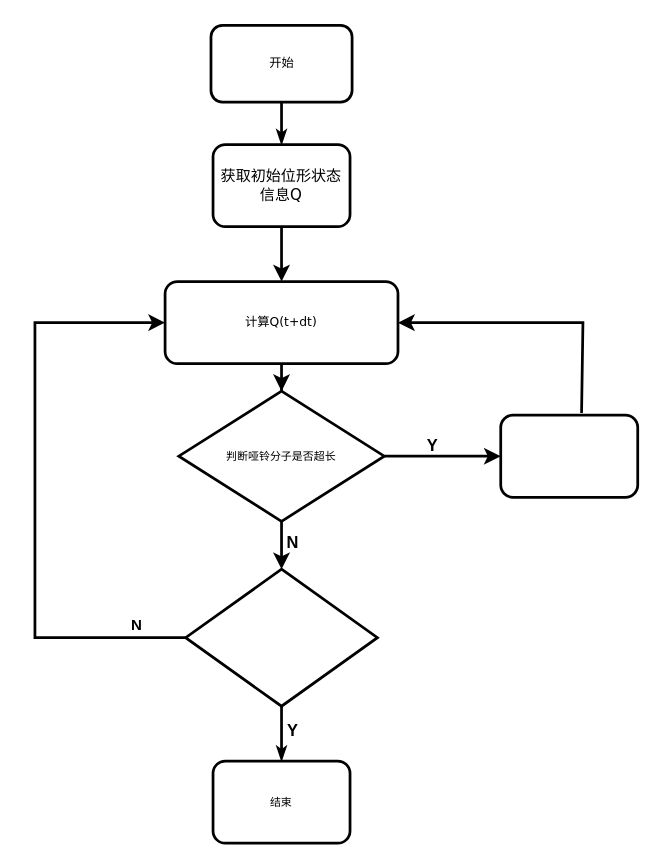
This 662x867 diagram has some shape labels left out. The centre of each missing label's shape, as x and y in pixels:
"dt=dt/N,计算N次" goes at [568,455].
"判断是否满足计算时长" goes at [281,637].
